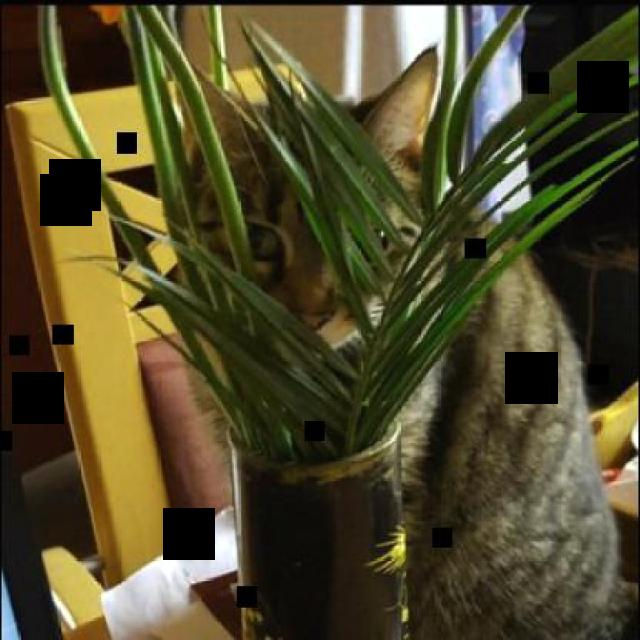unauthorized: (63, 37, 639, 638)
